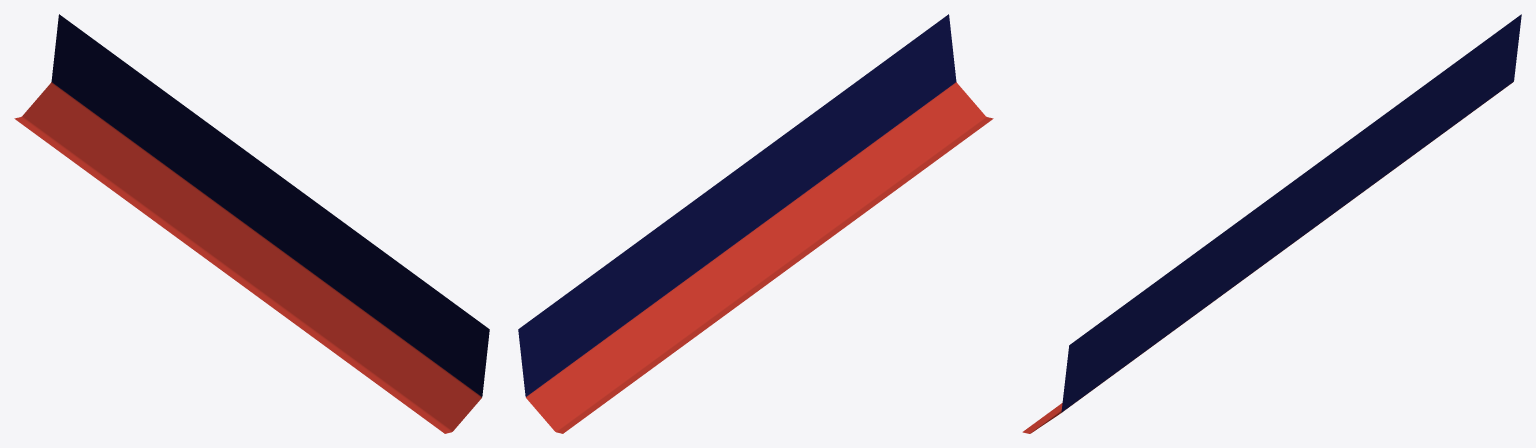
Rendered from CeillingSupport.fbx.
3 renders of one model, left to right at view 1: azimuth 30°, elevation 25°; view 2: azimuth 150°, elevation 25°; view 3: azimuth 330°, elevation 25°, orthographic. The views are drawn at different scales.
Visible parts, largest first — view 1: CeillingSupport; view 2: CeillingSupport; view 3: CeillingSupport.
Part boxes in pixels (left/top/right/bottom): CeillingSupport: left=14, top=14, right=489, bottom=433; CeillingSupport: left=518, top=14, right=993, bottom=433; CeillingSupport: left=1022, top=14, right=1521, bottom=433.
Bounding box in the file's own units: 12 × 24 × 200.
